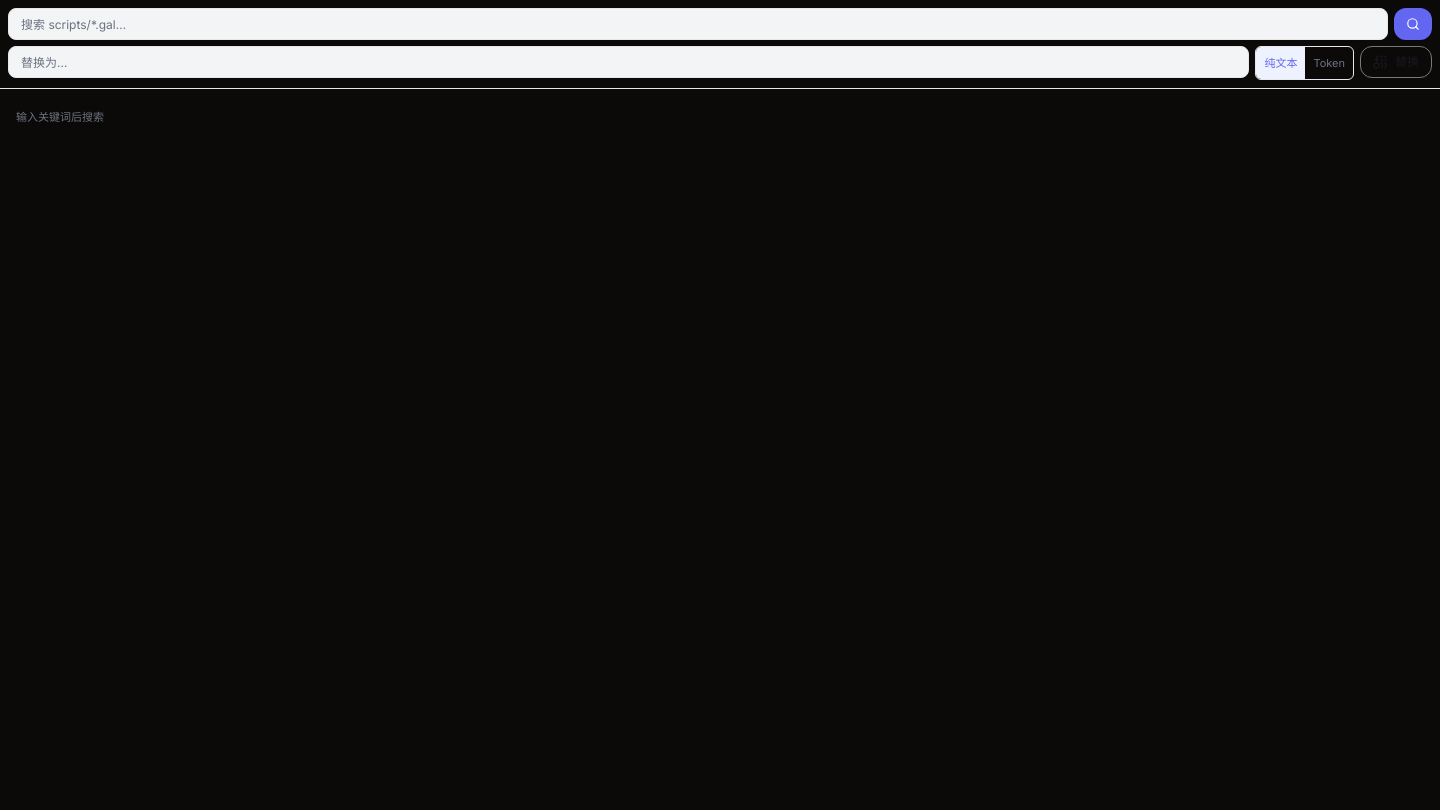
ScriptSearchPanel — 替换流 › 截断提示:truncated=true 时显示过多告警
The width and height of the screenshot is (1440, 810).
Type "艾" into the field with test id "script-search-input".
click(698, 24); type("艾")  # box x1=8 y1=8 x2=1388 y2=40
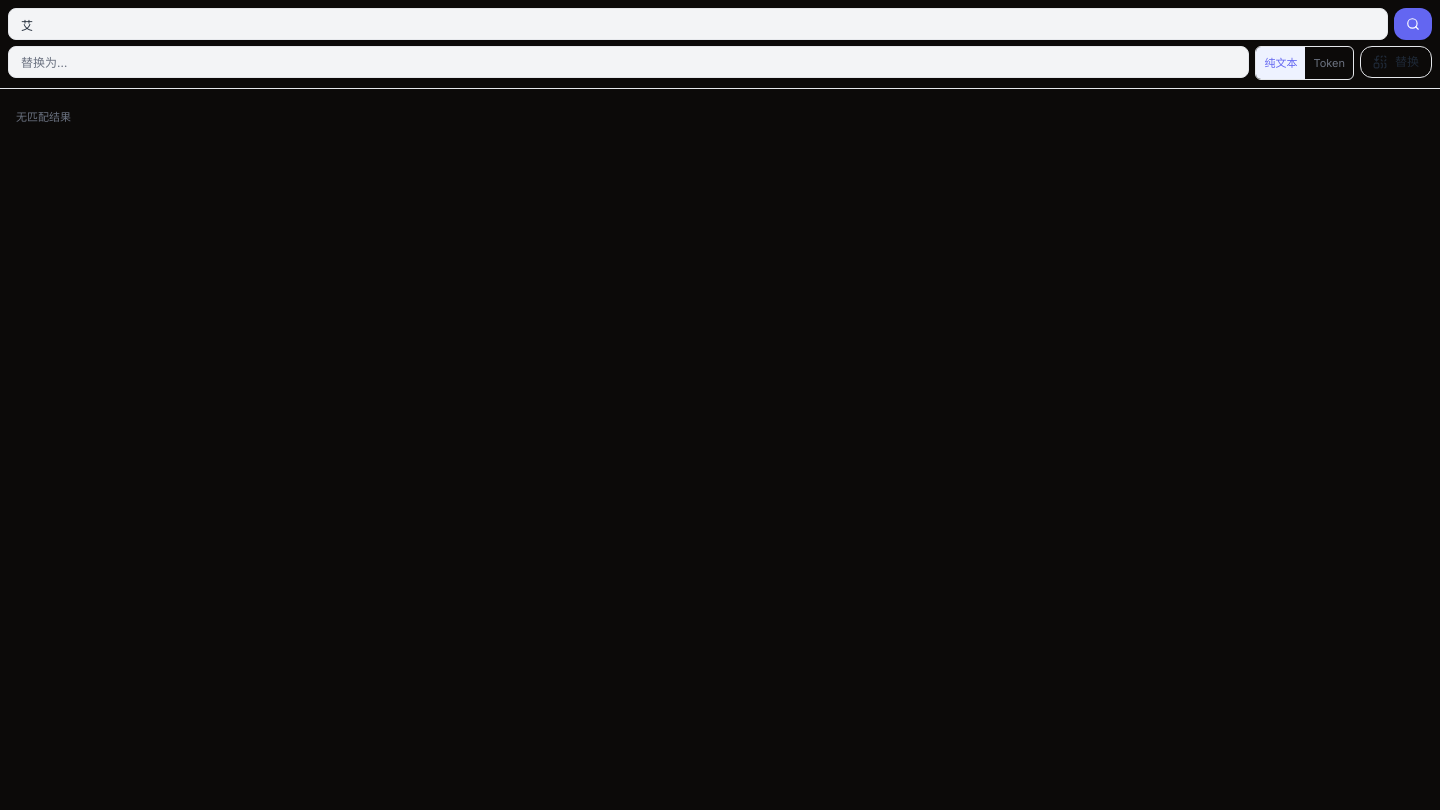
Click the button with test id "script-replace-button".
click(1396, 62)  # box x1=1360 y1=46 x2=1432 y2=78
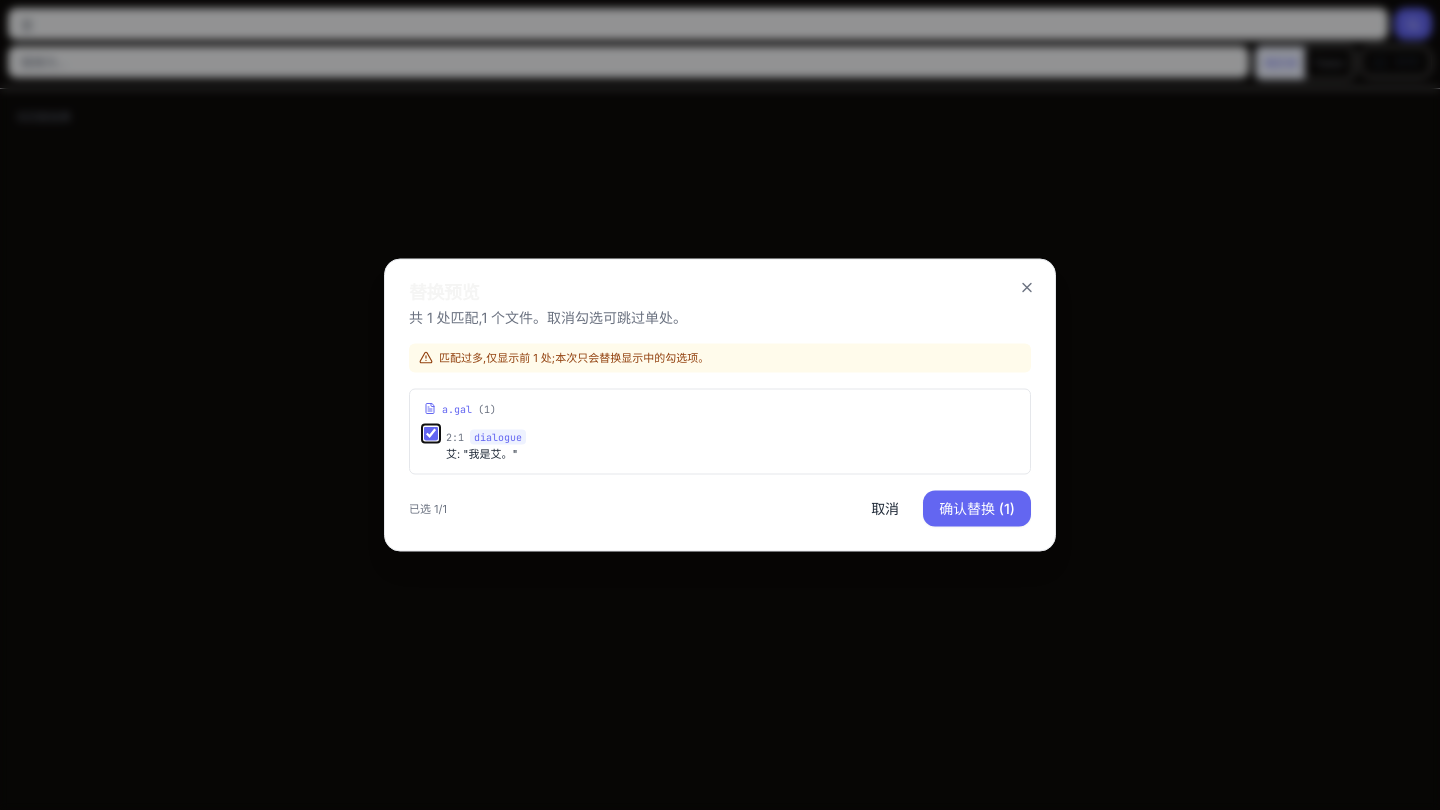
Expected: the element with test id "replace-truncated-notice" is shown, x1=409 y1=344 x2=1031 y2=372
